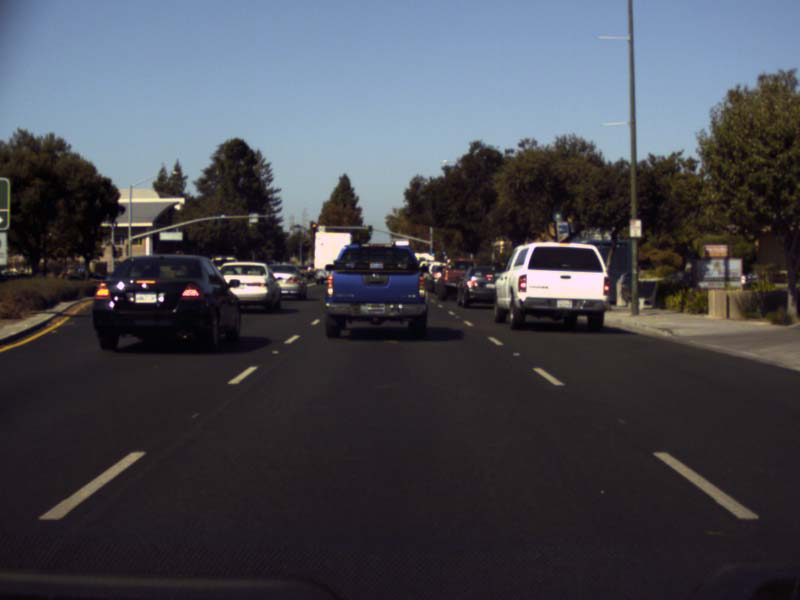Green: (368, 224, 372, 234), (430, 248, 434, 256)
Red: (310, 221, 317, 234)
